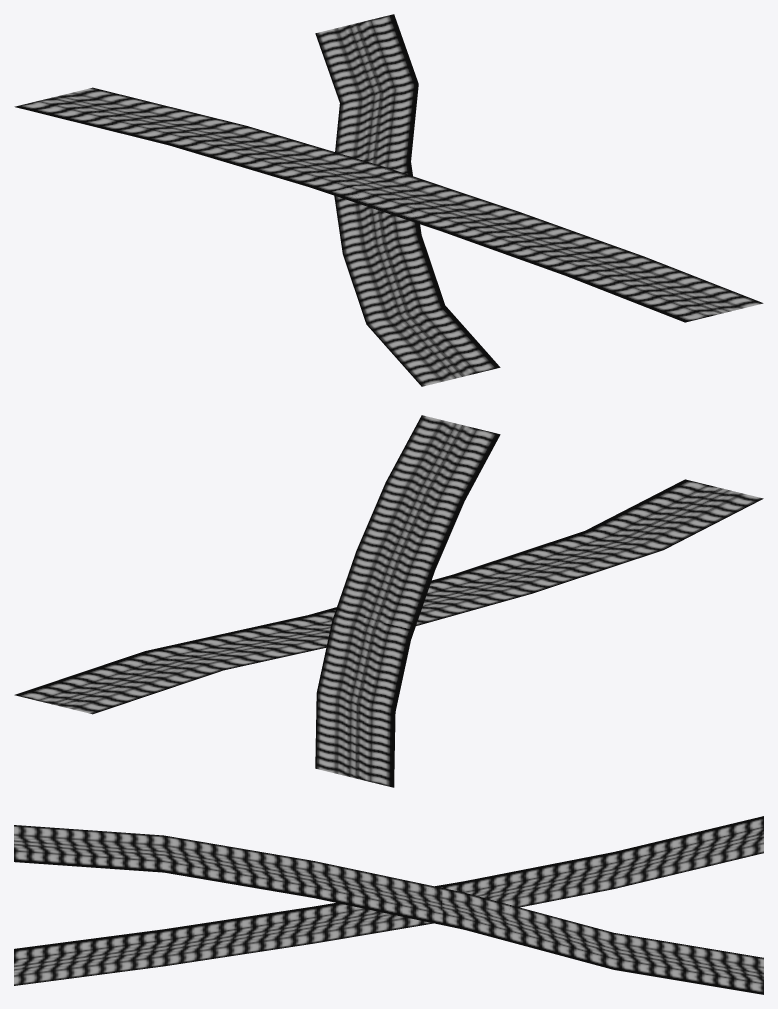
Rendered from Model_TireMarks_Cross.fbx.
3 renders of one model, top to bottom at view 1: azimuth 30°, elevation 25°; view 2: azimuth 150°, elevation 25°; view 3: azimuth 270°, elevation 25°, orthographic. The views are drawn at different scales.
Visible parts, largest first — view 1: TireMarks_Cross; view 2: TireMarks_Cross; view 3: TireMarks_Cross.
Part boxes in pixels (<box>): TireMarks_Cross: <box>14,14,763,386</box>; TireMarks_Cross: <box>14,415,763,787</box>; TireMarks_Cross: <box>14,816,763,994</box>.
Size of the model in its own units: 194 by 7.62e-14 by 343.
